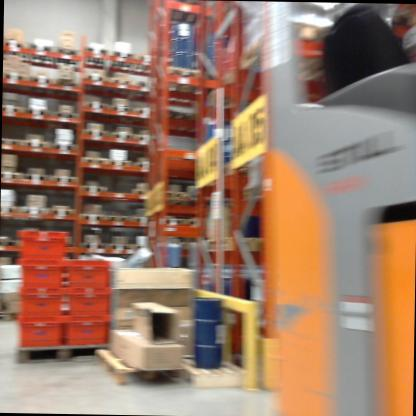forklift: (249, 1, 416, 416)
pallet: (93, 336, 195, 393), (181, 351, 247, 405), (16, 336, 110, 369), (154, 102, 196, 138), (160, 0, 205, 31), (155, 67, 206, 94), (160, 187, 197, 210), (133, 47, 156, 82), (105, 45, 133, 69), (29, 40, 53, 67), (86, 41, 108, 70), (22, 164, 51, 186), (4, 34, 28, 60), (20, 200, 51, 220), (27, 72, 53, 95), (53, 45, 80, 67), (5, 70, 27, 94), (111, 71, 132, 96), (78, 153, 107, 171), (107, 153, 136, 171), (81, 98, 107, 117), (47, 140, 79, 155), (83, 71, 108, 90), (22, 135, 47, 154), (2, 167, 24, 188), (108, 127, 132, 146), (107, 100, 132, 118), (153, 215, 185, 229), (81, 182, 109, 198), (23, 105, 51, 121), (0, 201, 23, 219), (79, 211, 108, 225), (49, 204, 76, 219), (51, 109, 82, 122), (83, 127, 108, 142), (133, 74, 150, 96), (47, 172, 78, 184), (78, 241, 108, 253), (107, 239, 130, 254), (136, 153, 154, 171), (132, 101, 151, 118), (128, 184, 151, 198), (132, 133, 154, 147), (3, 135, 22, 151), (109, 212, 130, 226), (3, 103, 22, 117), (130, 213, 149, 226)
small_load_carrier: (11, 229, 74, 261), (12, 260, 68, 293), (64, 313, 114, 349), (14, 292, 69, 320), (15, 319, 66, 348), (64, 258, 112, 288), (63, 288, 115, 314)
